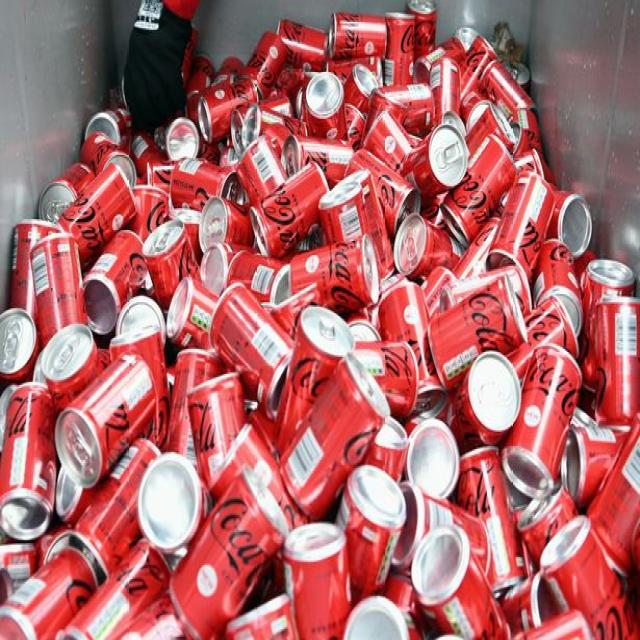soda_can: (273, 334, 416, 544), (29, 326, 171, 520), (160, 142, 251, 246)
